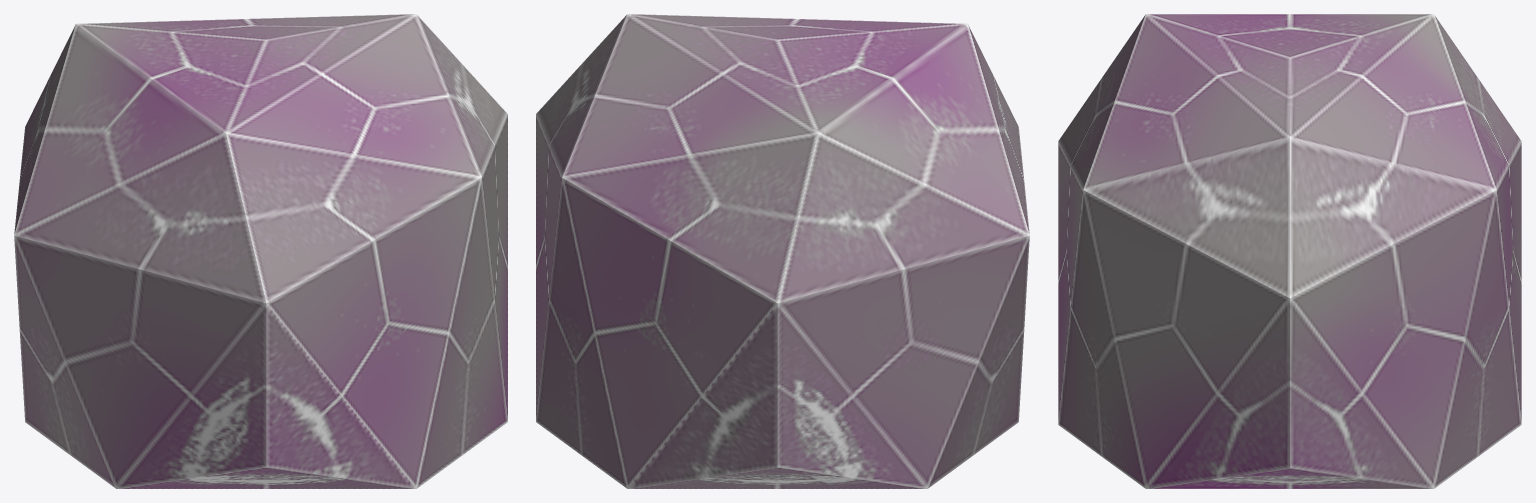
Rendered from BossAtack.FBX.
3 renders of one model, left to right at view 1: azimuth 30°, elevation 25°; view 2: azimuth 150°, elevation 25°; view 3: azimuth 270°, elevation 25°, orthographic. The views are drawn at different scales.
Parts seen in each view (by area): view 1: BossAtack; view 2: BossAtack; view 3: BossAtack.
Part boxes in pixels (left/top/right/bottom): BossAtack: left=14, top=14, right=507, bottom=488; BossAtack: left=536, top=14, right=1029, bottom=488; BossAtack: left=1058, top=14, right=1521, bottom=488.
Size of the model in its own units: 146 by 110 by 123.
